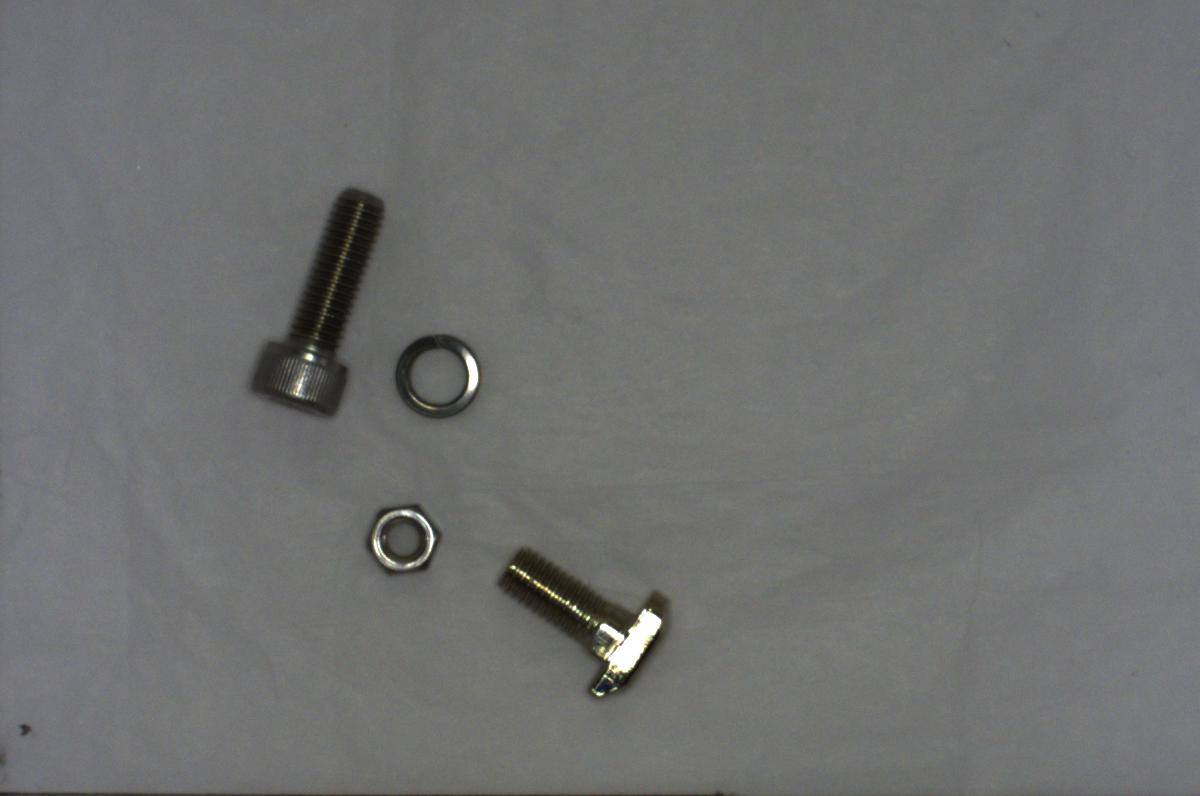Hexagon nut: (353, 488, 444, 581)
Hexagon screw: (235, 178, 378, 420)
Spring washer: (386, 326, 484, 423)
T-shaped screw: (493, 546, 678, 709)
